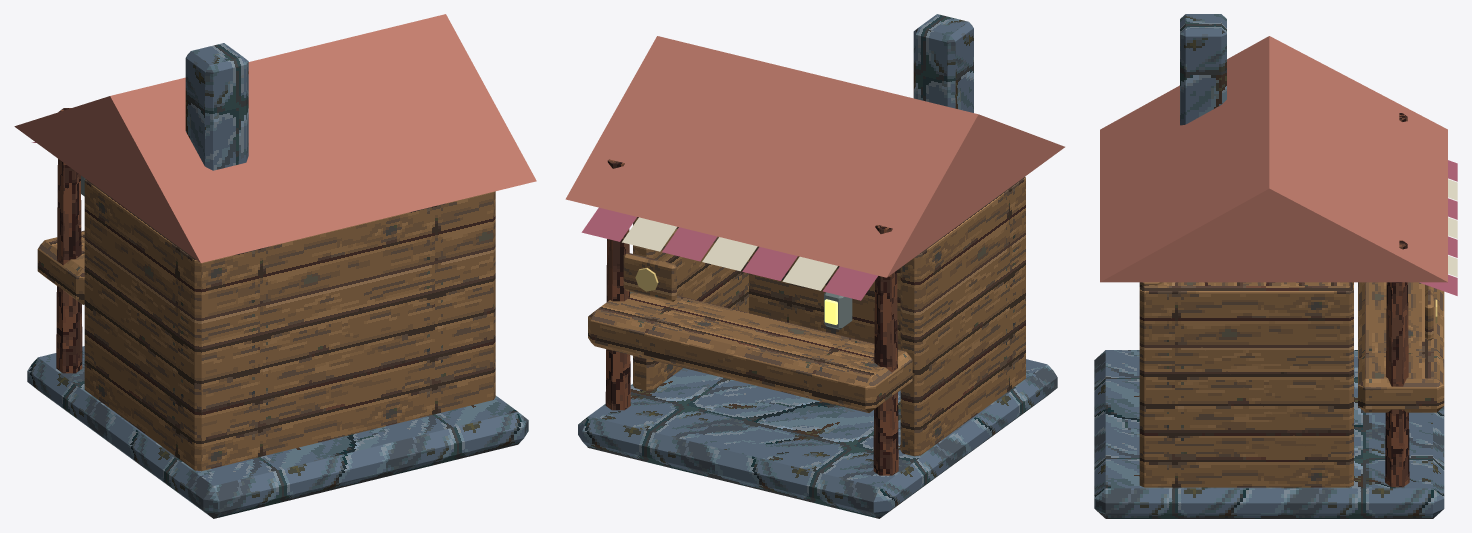
File: loja_mascate.fbx
The picture shows the model from 3 angles, left to right: view 1: azimuth 30°, elevation 25°; view 2: azimuth 150°, elevation 25°; view 3: azimuth 270°, elevation 25°; orthographic projection. The views are drawn at different scales.
Visible parts, largest first — view 1: pedreira_loja_mascate; view 2: pedreira_loja_mascate; view 3: pedreira_loja_mascate.
Boxes of the visible parts, bbox=[...] form: pedreira_loja_mascate: bbox=[14, 14, 536, 518]; pedreira_loja_mascate: bbox=[565, 14, 1064, 518]; pedreira_loja_mascate: bbox=[1094, 14, 1457, 518].
Bounding box in the file's own units: 192 × 226 × 193.
Materials: 9 (3 with a texture image).
